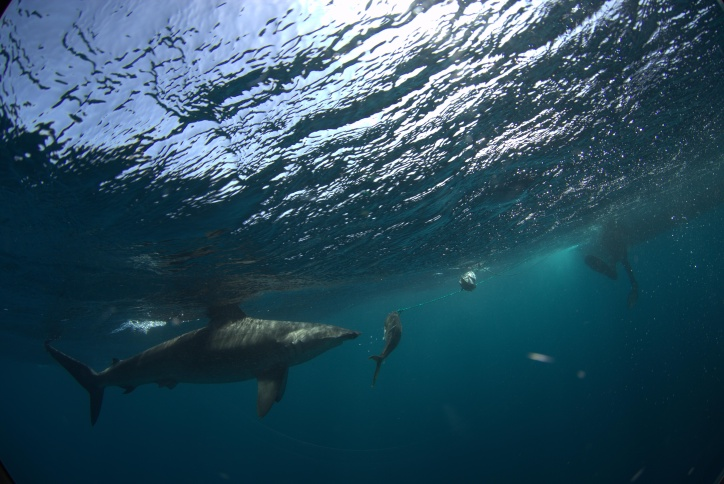Hammer: (36, 281, 379, 445)
